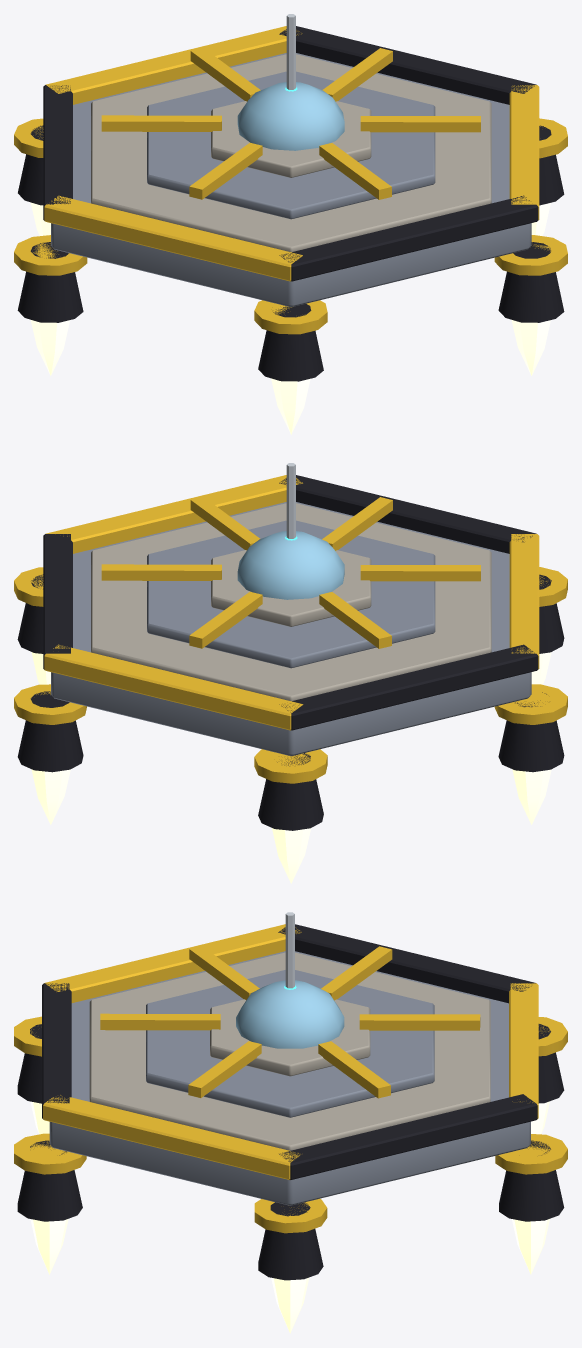
The model's file is aegis_platform.glb.
3 renders of one model, top to bottom at view 1: azimuth 30°, elevation 25°; view 2: azimuth 150°, elevation 25°; view 3: azimuth 270°, elevation 25°, orthographic.
Parts seen in each view (by area): view 1: aegis_platform; view 2: aegis_platform; view 3: aegis_platform.
Part boxes in pixels (x1,y1,x2,y2): aegis_platform: (14,14,567,434); aegis_platform: (14,463,567,883); aegis_platform: (14,912,567,1333).
Size of the model in its own units: 67.92 by 36 by 59.8.
1 material, 1 textured.
